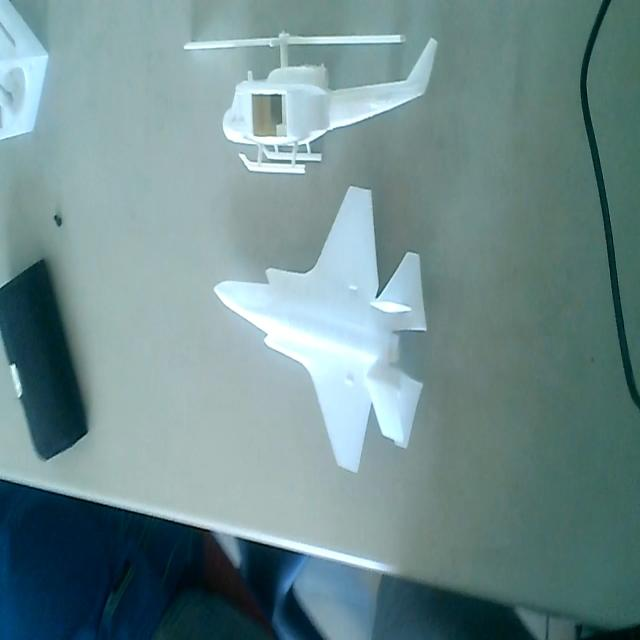Helicopter: (182, 33, 440, 175)
Jet: (212, 182, 426, 478)
